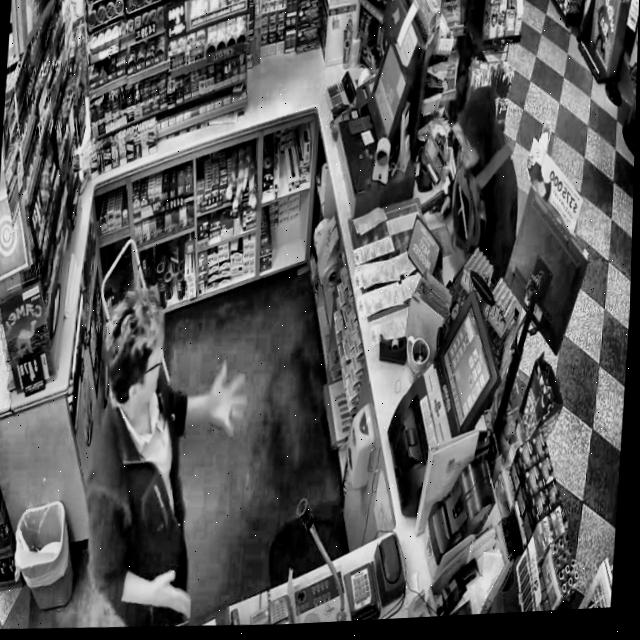pistol: (413, 180, 452, 224)
robbery: (410, 80, 520, 285)
